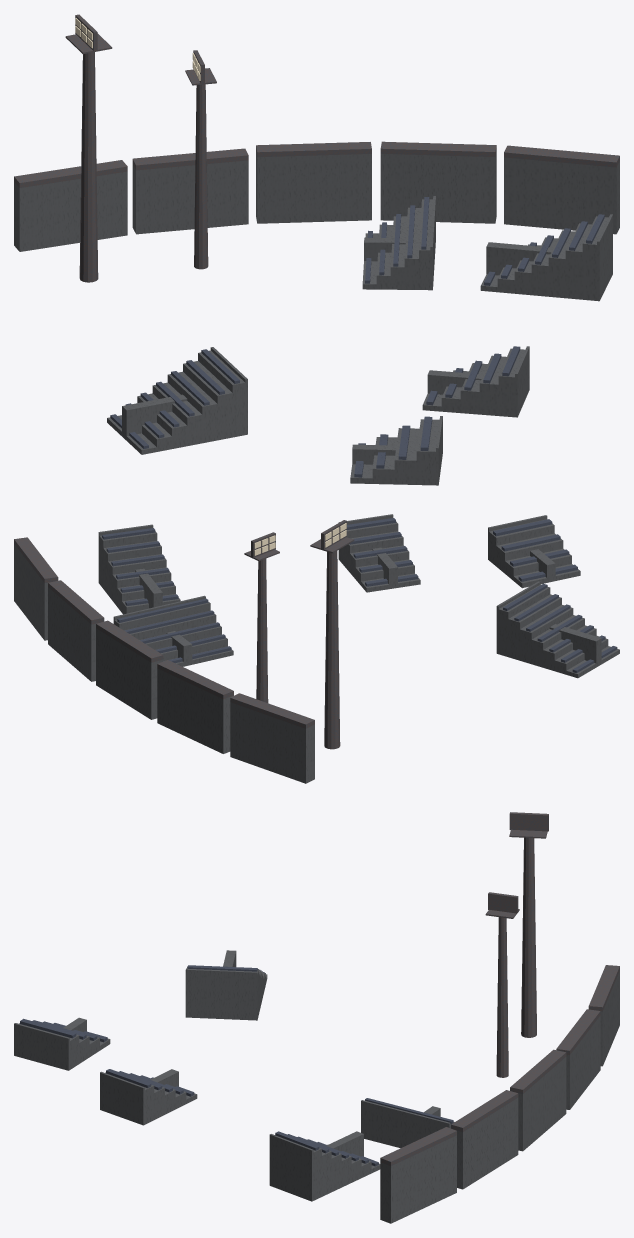
File: SM_City_AlHalqa_1.fbx
3 views of the same model, one above another, from view 1: azimuth 30°, elevation 25°; view 2: azimuth 150°, elevation 25°; view 3: azimuth 270°, elevation 25° (orthographic). The views are drawn at different scales.
Parts seen in each view (by area): view 1: SM_City_AlHalqa_1; view 2: SM_City_AlHalqa_1; view 3: SM_City_AlHalqa_1.
Boxes of the visible parts, left/top/right/bottom form: SM_City_AlHalqa_1: left=14, top=14, right=619, bottom=485; SM_City_AlHalqa_1: left=14, top=514, right=619, bottom=783; SM_City_AlHalqa_1: left=14, top=812, right=619, bottom=1223.
Bounding box in the file's own units: 4918 × 2030 × 5070.
Materials: 5 (5 with a texture image).
